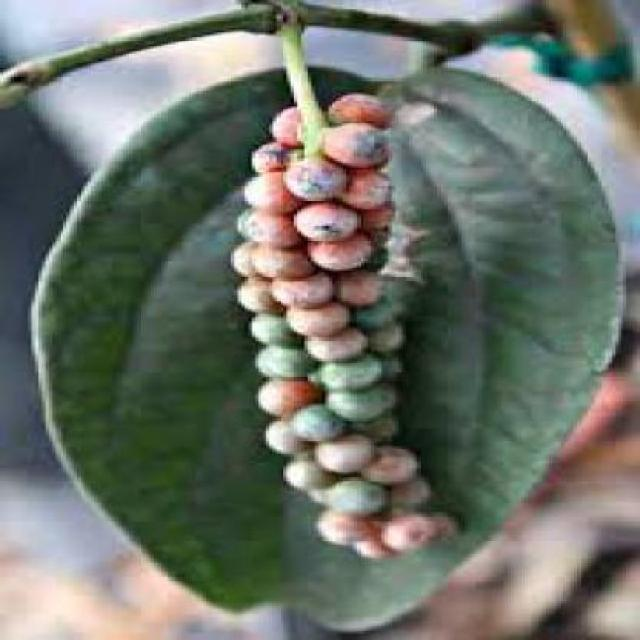RIPE: (256, 86, 476, 566)
